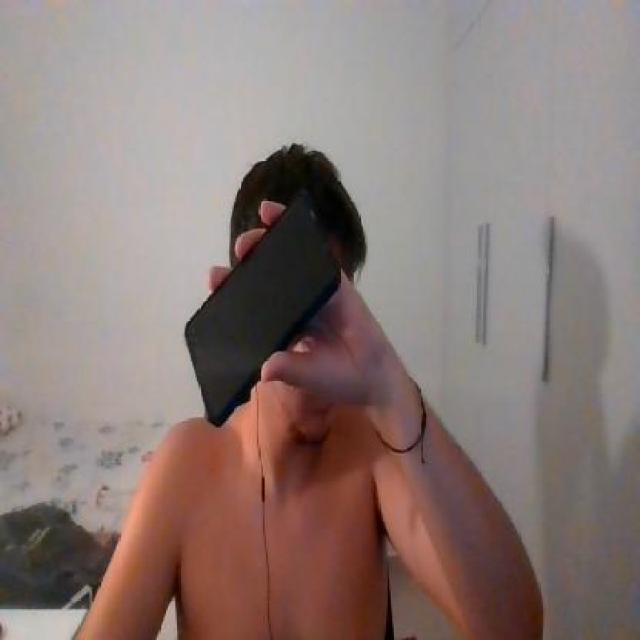phone: (185, 194, 341, 426)
